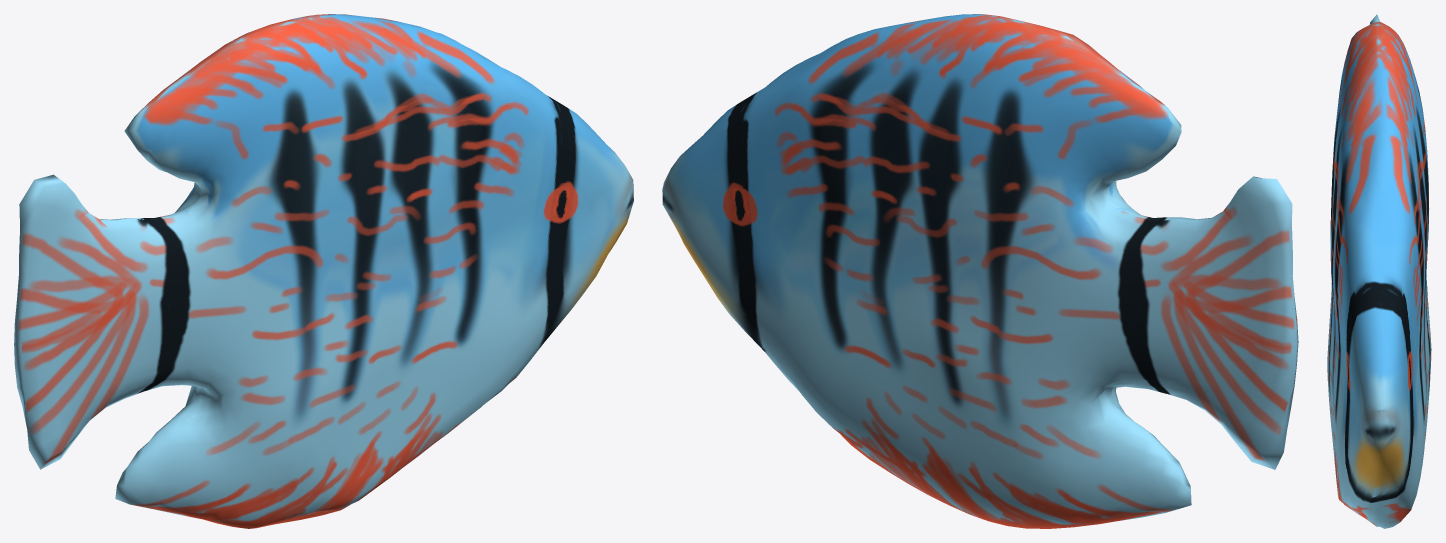
The model's file is Pez_Disco.fbx.
The picture shows the model from 3 angles, left to right: view 1: azimuth 30°, elevation 25°; view 2: azimuth 150°, elevation 25°; view 3: azimuth 270°, elevation 25°; orthographic projection. The views are drawn at different scales.
Parts seen in each view (by area): view 1: Plane; view 2: Plane; view 3: Plane.
Part boxes in pixels (x1,y1,x2,y2): Plane: (14,14,633,528); Plane: (662,14,1298,528); Plane: (1327,14,1431,528).
Size of the model in its own units: 465 by 356 by 73.31.
